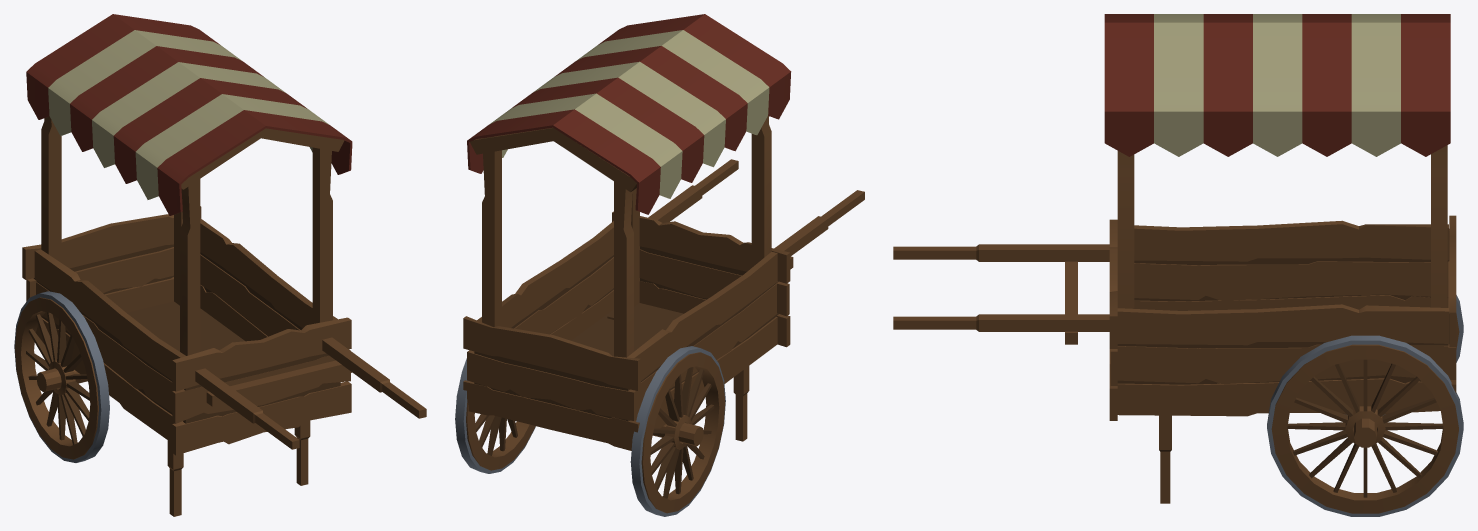
The model's file is Cart.gltf.
3 views of the same model, side by side, from view 1: azimuth 30°, elevation 25°; view 2: azimuth 150°, elevation 25°; view 3: azimuth 270°, elevation 25° (orthographic). The views are drawn at different scales.
Visible parts, largest first — view 1: Cart; view 2: Cart; view 3: Cart.
Part boxes in pixels (box(x1,y1,x2,y2)): Cart: box(14, 14, 426, 516); Cart: box(455, 14, 864, 516); Cart: box(893, 14, 1463, 516).
Bounding box in the file's own units: 0.462 × 0.7961 × 0.9274.
